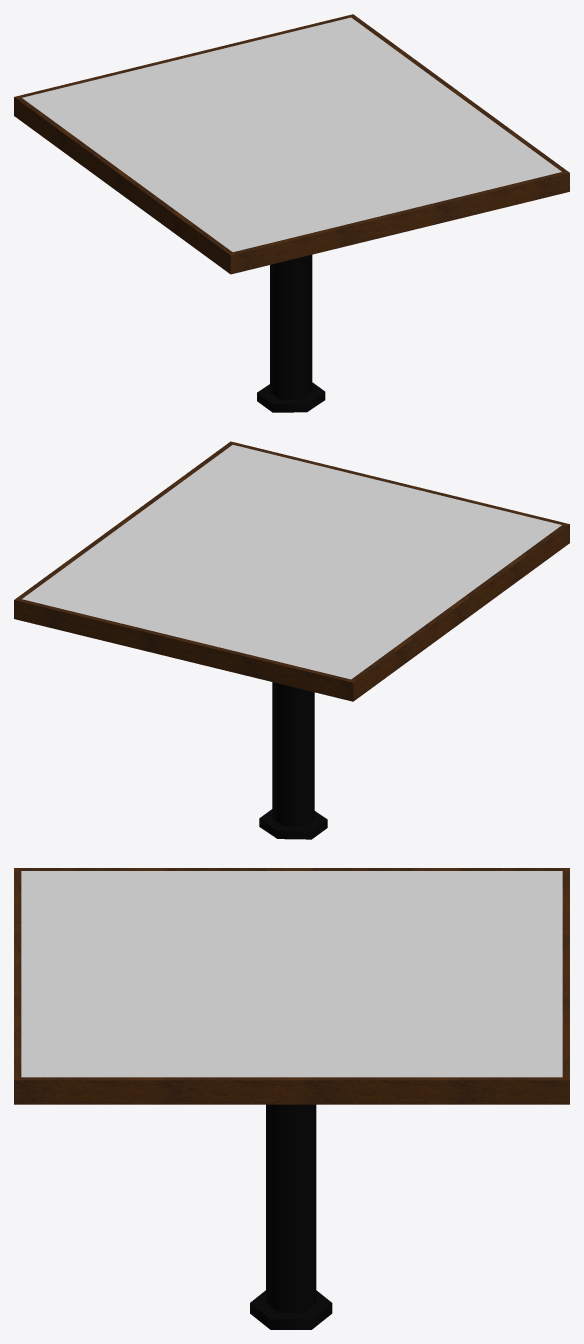
The model's file is int_table_a_001.FBX.
3 renders of one model, top to bottom at view 1: azimuth 30°, elevation 25°; view 2: azimuth 150°, elevation 25°; view 3: azimuth 270°, elevation 25°, orthographic. The views are drawn at different scales.
Parts seen in each view (by area): view 1: int_table_a_001; view 2: int_table_a_001; view 3: int_table_a_001.
Boxes of the visible parts, bbox=[...] form: int_table_a_001: bbox=[14, 14, 569, 412]; int_table_a_001: bbox=[14, 441, 569, 839]; int_table_a_001: bbox=[14, 868, 569, 1329].
Bounding box in the file's own units: 105 × 78.65 × 117.
